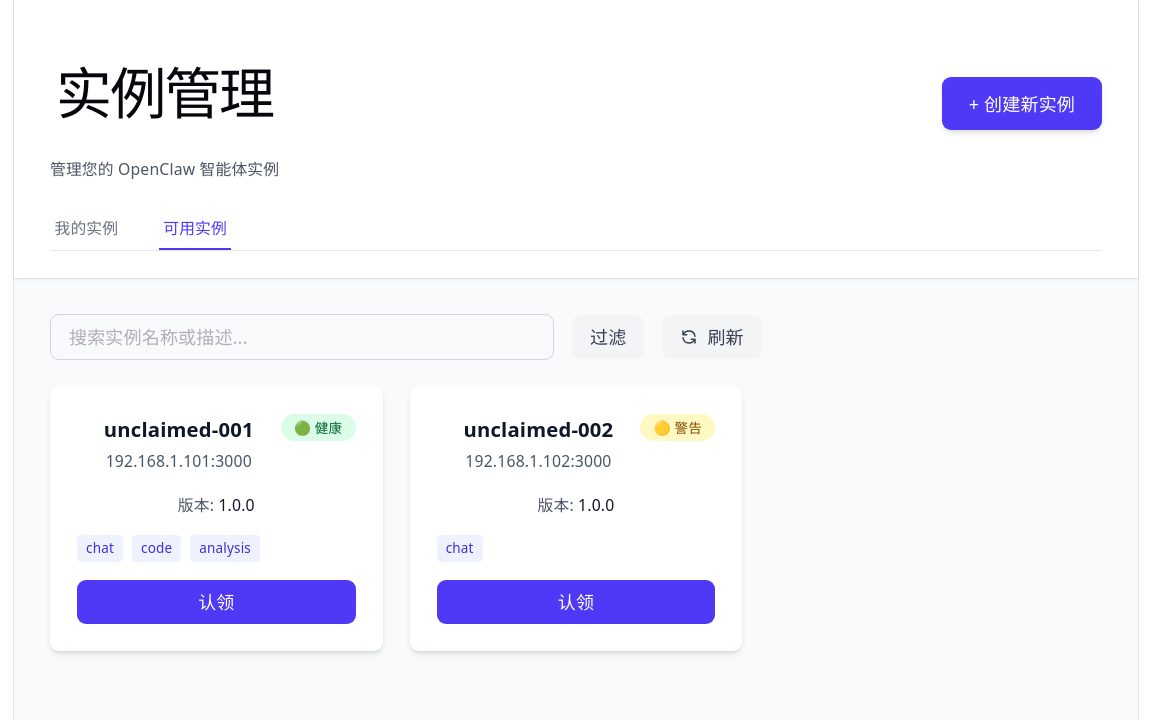
Test: InstanceListPage › Search and Filter › should filter unclaimed instances by search term
The image size is (1152, 720).
Click the button with test id "tab-unclaimed" at (195,229), box [159,208,231,250]
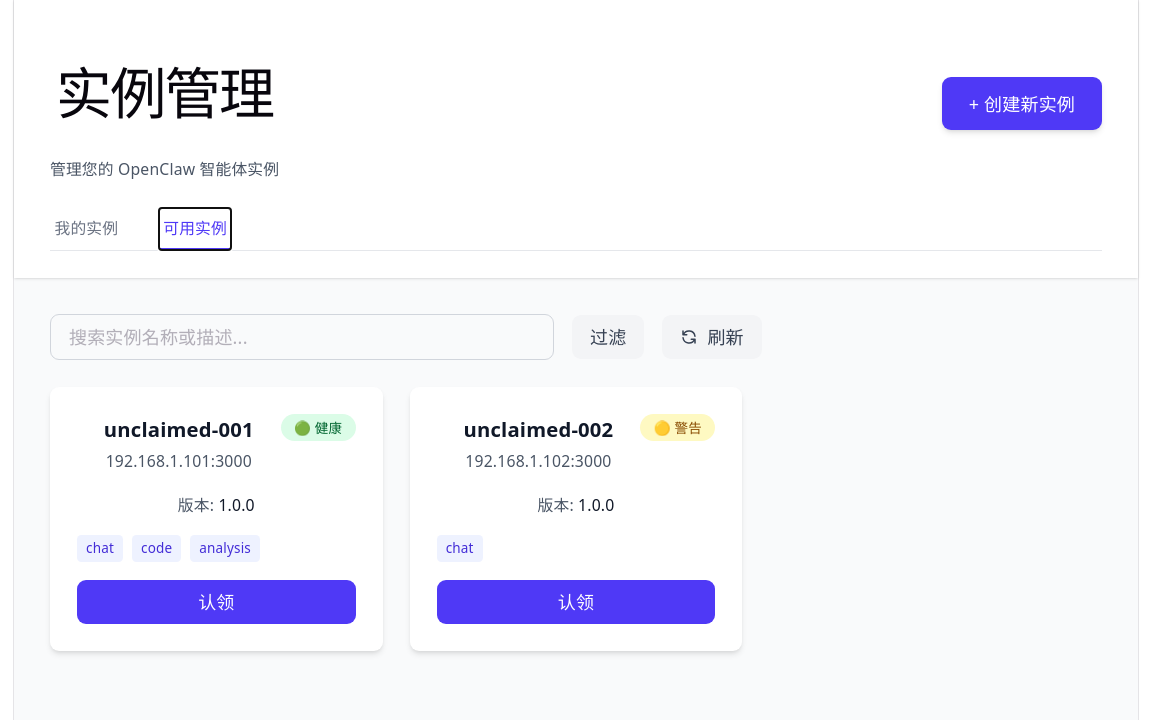
Check: the heading "unclaimed-001" is shown, box [104,415,254,443]
Check: the heading "unclaimed-002" is shown, box [464,415,613,443]
Type "unclaimed-001" into the field with test id "search-input" at (302,337), box [50,314,554,360]
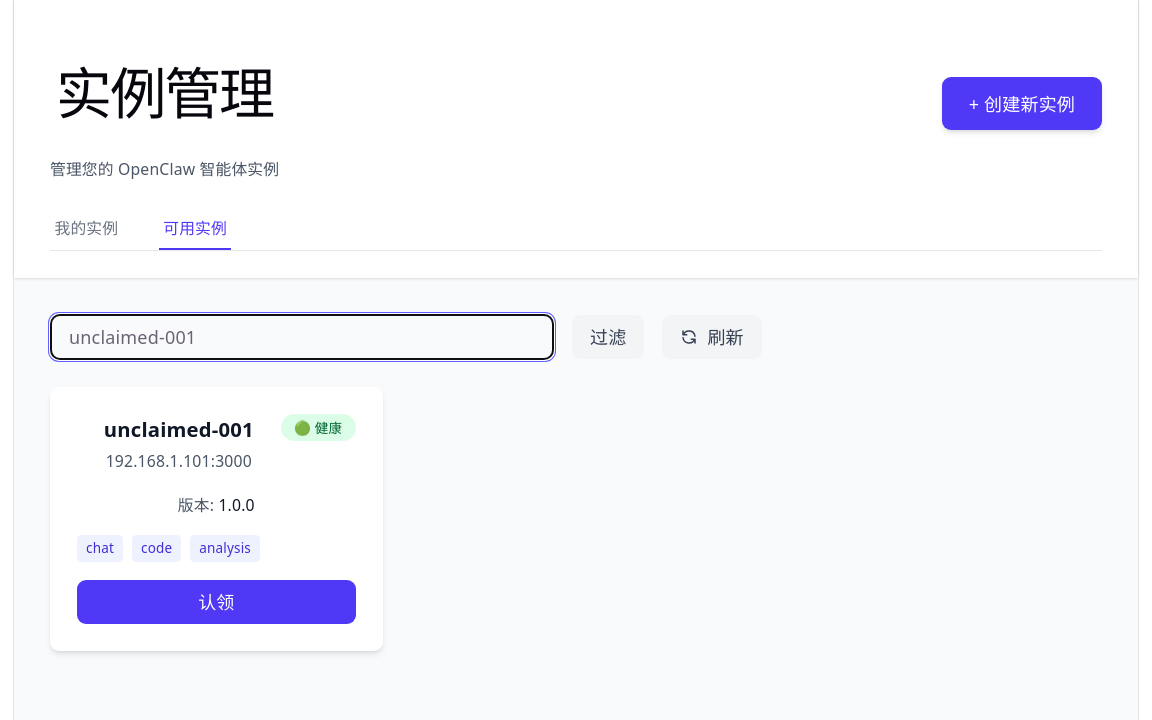
Check: the heading "unclaimed-001" is shown, box [104,415,254,443]
Check: the heading "unclaimed-002" is gone
